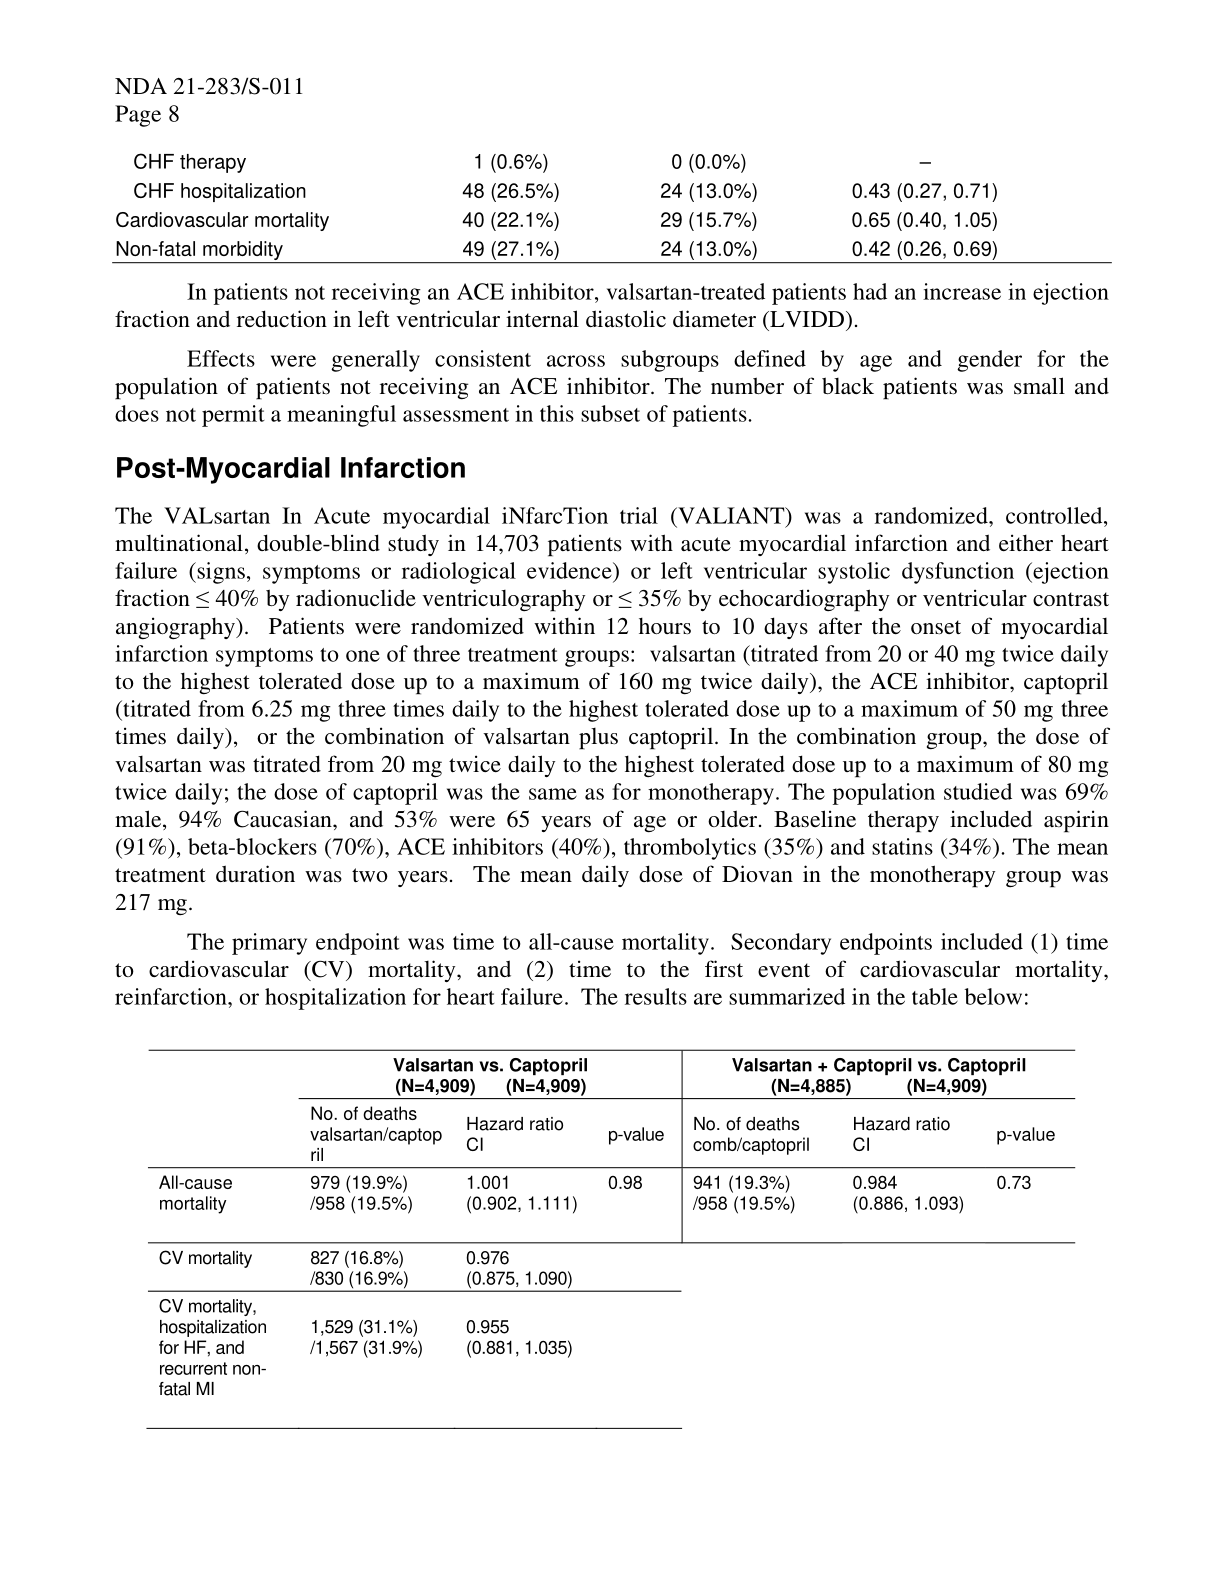nolines: (109, 147, 1007, 261)
partial_lined_merged_cells: (147, 1048, 1080, 1401)
